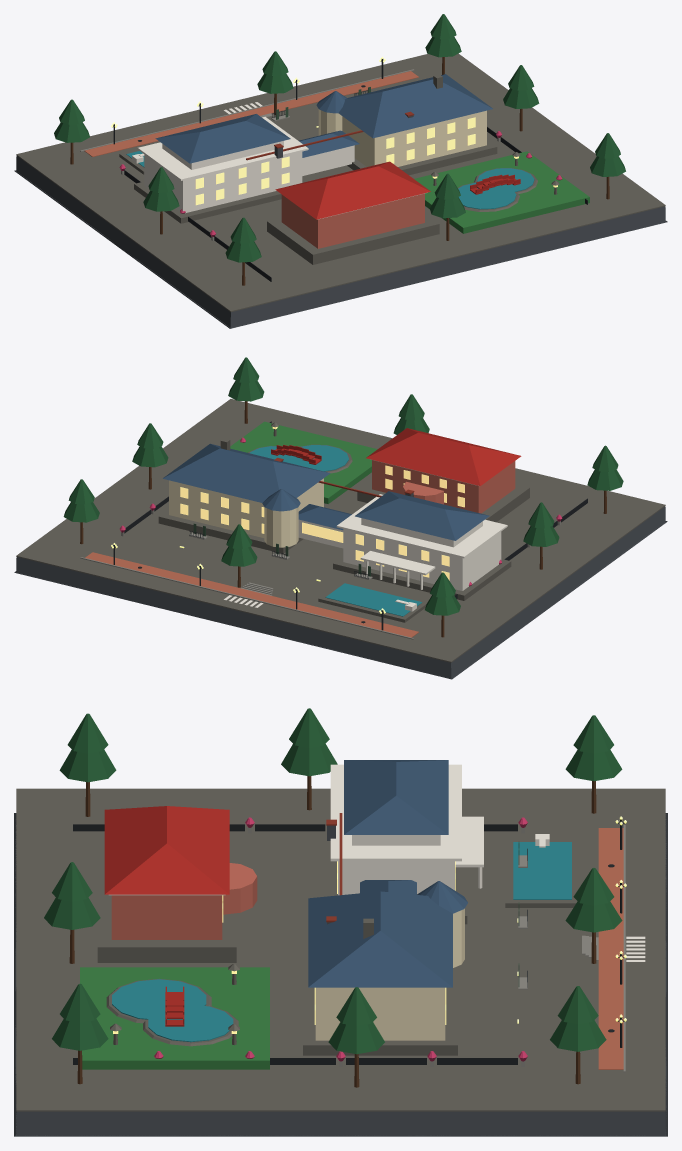
Rendered from lm_37_biet_dien_tran_le_xuan.glb.
3 views of the same model, one above another, from view 1: azimuth 30°, elevation 25°; view 2: azimuth 150°, elevation 25°; view 3: azimuth 270°, elevation 25° (orthographic). The views are drawn at different scales.
Parts seen in each view (by area): view 1: Foundation_Plinth_Trim, Foundation_Skirt, Palace_Pine_Canopies, BachNgoc_Ivory_Walls, Palace_Stone_Terraces_And_Steps, LamNgoc_Villa_Blue_Roof, Palace_Garden_Lawns, HongNgoc_Villa_Roof, LamNgoc_Ochre_Walls, HongNgoc_Rose_Stone_Walls, BachNgoc_Villa_Slate_Roof, Phase2_Interlocking_Brick_Sidewalk (+7 smaller); view 2: Foundation_Plinth_Trim, Foundation_Skirt, BachNgoc_Ivory_Walls, Palace_Pine_Canopies, LamNgoc_Villa_Blue_Roof, Palace_Stone_Terraces_And_Steps, HongNgoc_Villa_Roof, LamNgoc_Ochre_Walls, HongNgoc_Rose_Stone_Walls, BachNgoc_Villa_Slate_Roof, Palace_Garden_Lawns, HeatedPool_And_Koi_Pond_Water (+8 smaller); view 3: Foundation_Plinth_Trim, Foundation_Skirt, Palace_Pine_Canopies, LamNgoc_Villa_Blue_Roof, Palace_Stone_Terraces_And_Steps, Palace_Garden_Lawns, HongNgoc_Villa_Roof, BachNgoc_Ivory_Walls, BachNgoc_Villa_Slate_Roof, HeatedPool_And_Koi_Pond_Water, HongNgoc_Rose_Stone_Walls, LamNgoc_Ochre_Walls (+7 smaller).
Part boxes in pixels (x1,y1,x2,y2): Foundation_Plinth_Trim: (16,53,665,311); Foundation_Skirt: (14,156,667,328); Palace_Pine_Canopies: (54,14,625,262); BachNgoc_Ivory_Walls: (132,116,427,219); Palace_Stone_Terraces_And_Steps: (119,74,559,264); LamNgoc_Villa_Blue_Roof: (338,74,492,138); Palace_Garden_Lawns: (414,151,589,233); HongNgoc_Villa_Roof: (275,161,430,219); LamNgoc_Ochre_Walls: (318,109,486,166); HongNgoc_Rose_Stone_Walls: (281,193,424,248); BachNgoc_Villa_Slate_Roof: (155,114,290,163); Phase2_Interlocking_Brick_Sidewalk: (84,71,418,156); Foundation_Plinth_Trim: (16,399,665,662); Foundation_Skirt: (14,506,667,679); BachNgoc_Ivory_Walls: (298,459,507,611); Palace_Pine_Canopies: (63,357,623,615); LamNgoc_Villa_Blue_Roof: (163,443,330,502); Palace_Stone_Terraces_And_Steps: (158,422,529,622); HongNgoc_Villa_Roof: (366,428,521,485); LamNgoc_Ochre_Walls: (169,478,323,547); HongNgoc_Rose_Stone_Walls: (372,460,515,513); BachNgoc_Villa_Slate_Roof: (355,491,489,540); Palace_Garden_Lawns: (230,421,377,503); HeatedPool_And_Koi_Pond_Water: (250,445,422,616); Foundation_Plinth_Trim: (16,788,665,1111); Foundation_Skirt: (14,813,667,1136); Palace_Pine_Canopies: (44,708,622,1054); LamNgoc_Villa_Blue_Roof: (308,891,452,987); Palace_Stone_Terraces_And_Steps: (97,819,579,1055); Palace_Garden_Lawns: (80,967,269,1069); HongNgoc_Villa_Roof: (104,806,229,894); BachNgoc_Ivory_Walls: (109,764,549,895); BachNgoc_Villa_Slate_Roof: (344,760,448,834); HeatedPool_And_Koi_Pond_Water: (112,842,571,1042); HongNgoc_Rose_Stone_Walls: (111,863,257,939); LamNgoc_Ochre_Walls: (315,908,464,1040).
Bounding box in the file's own units: 96.85 × 18.5 × 82.73.
